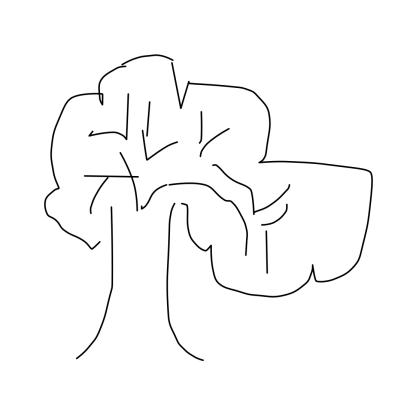branch_line: (89, 91, 289, 279)
crown_cloud: (36, 52, 375, 302)
trunk_straight: (106, 229, 174, 320)
